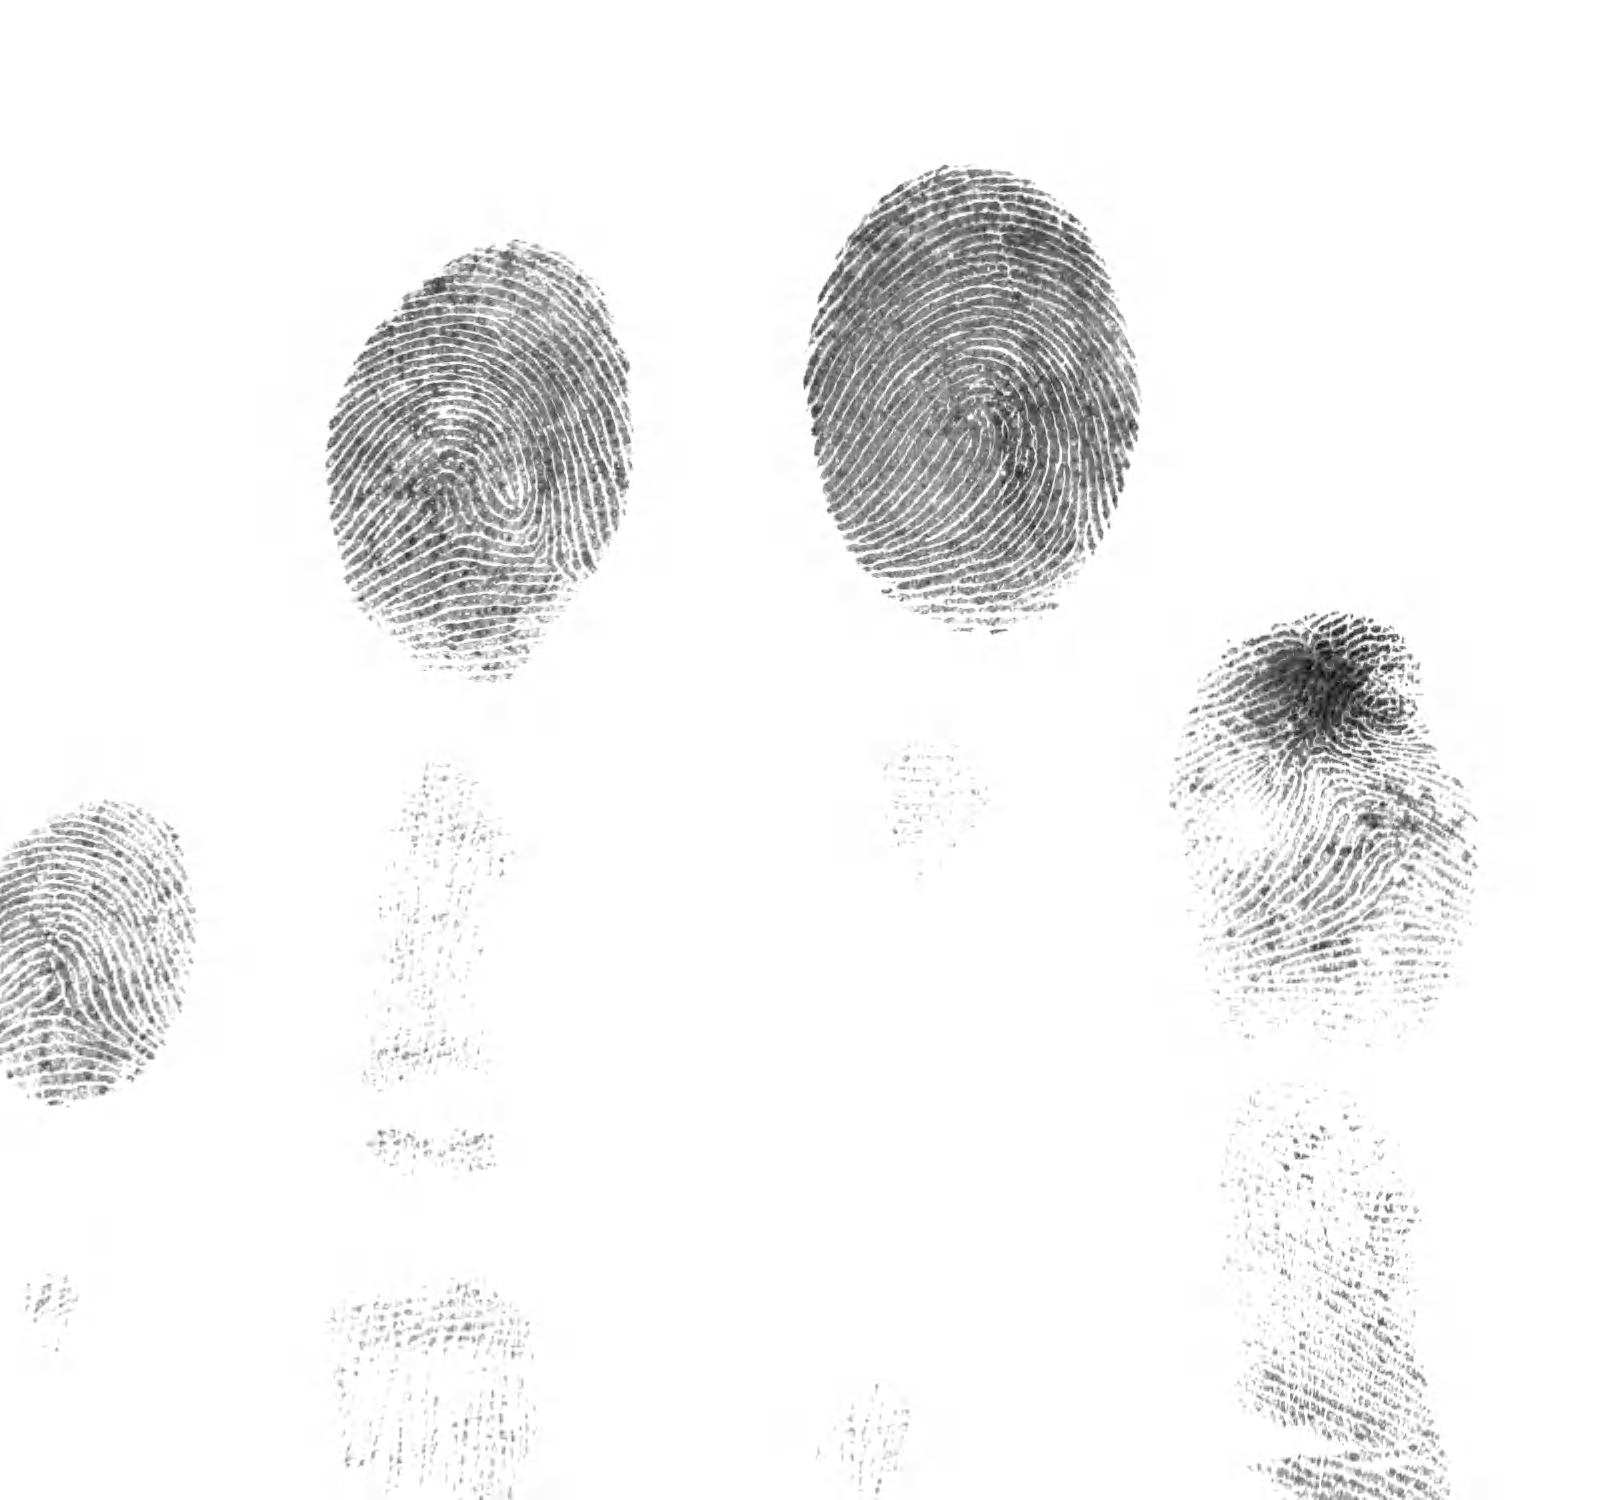distal: (784, 134, 1156, 641), (299, 202, 658, 696), (1136, 608, 1508, 1062), (1, 794, 224, 1131)
